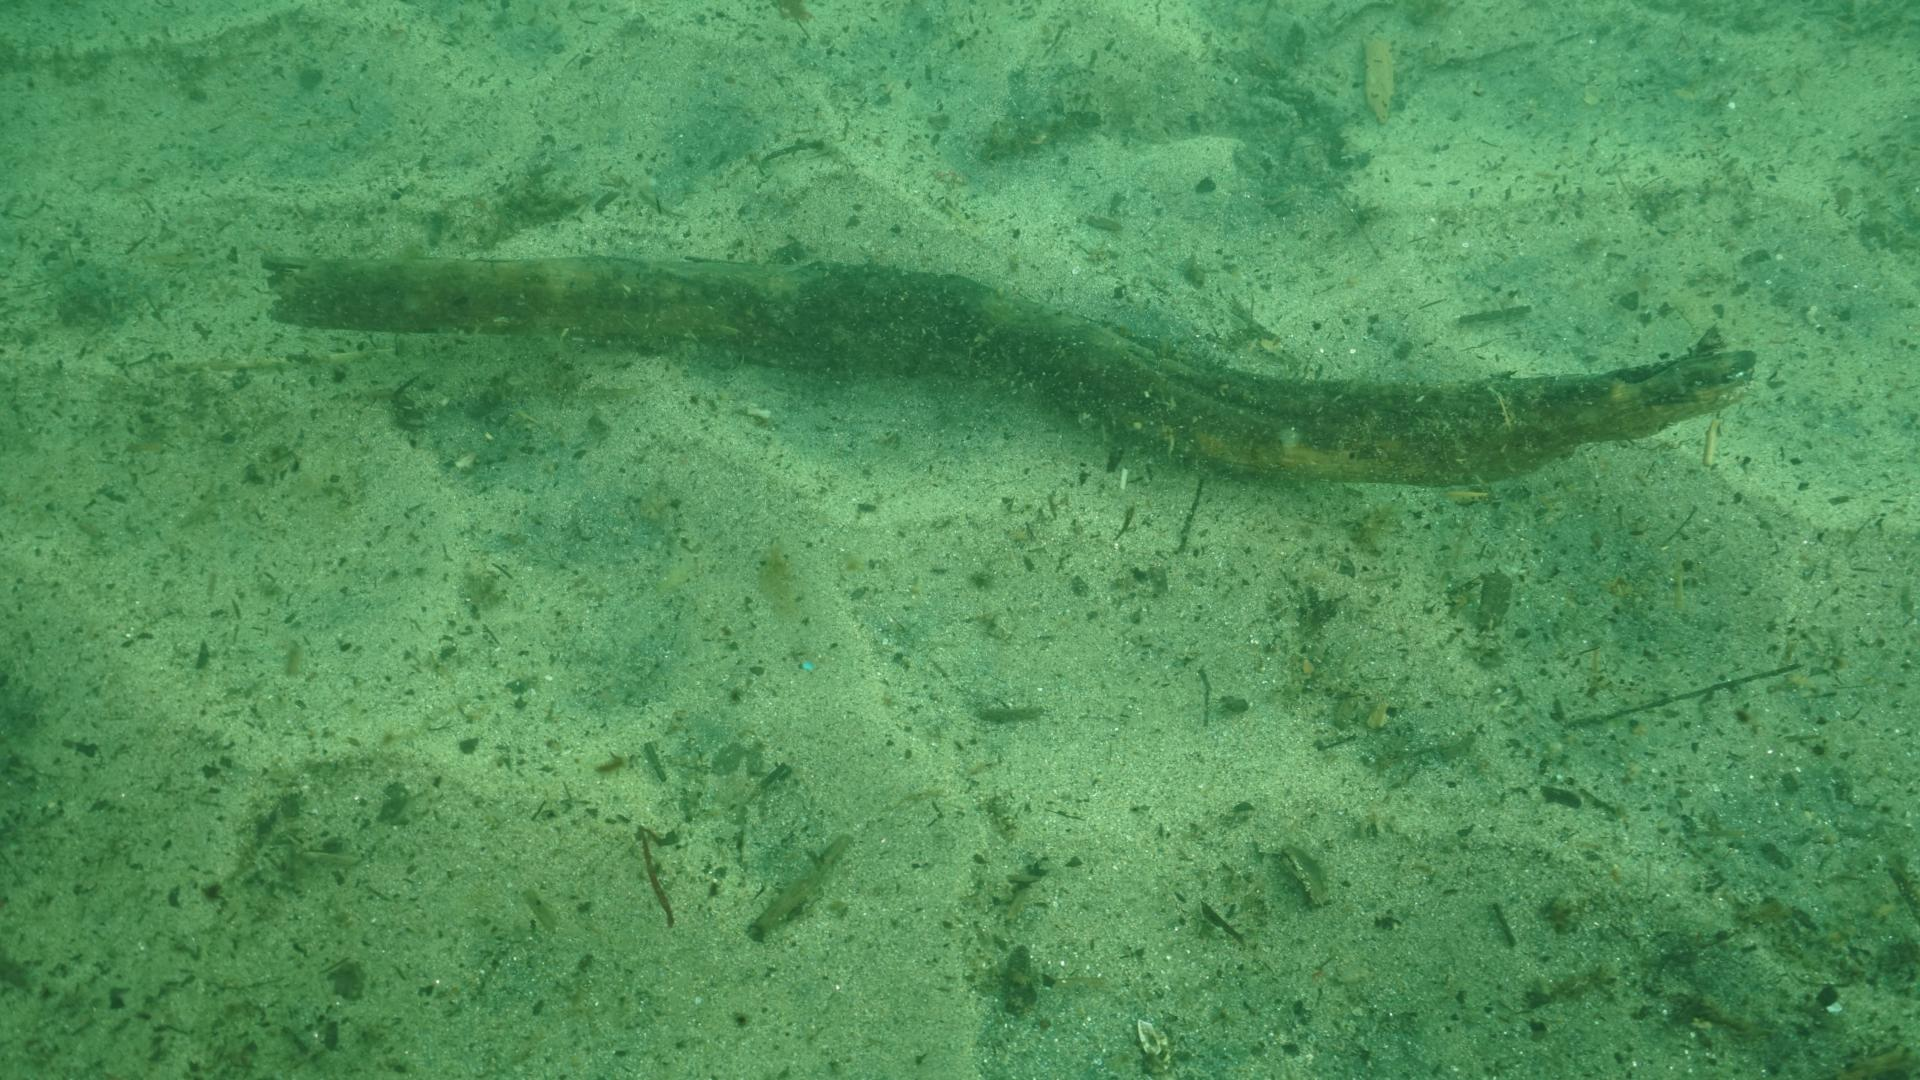wood: (262, 247, 1753, 483)
